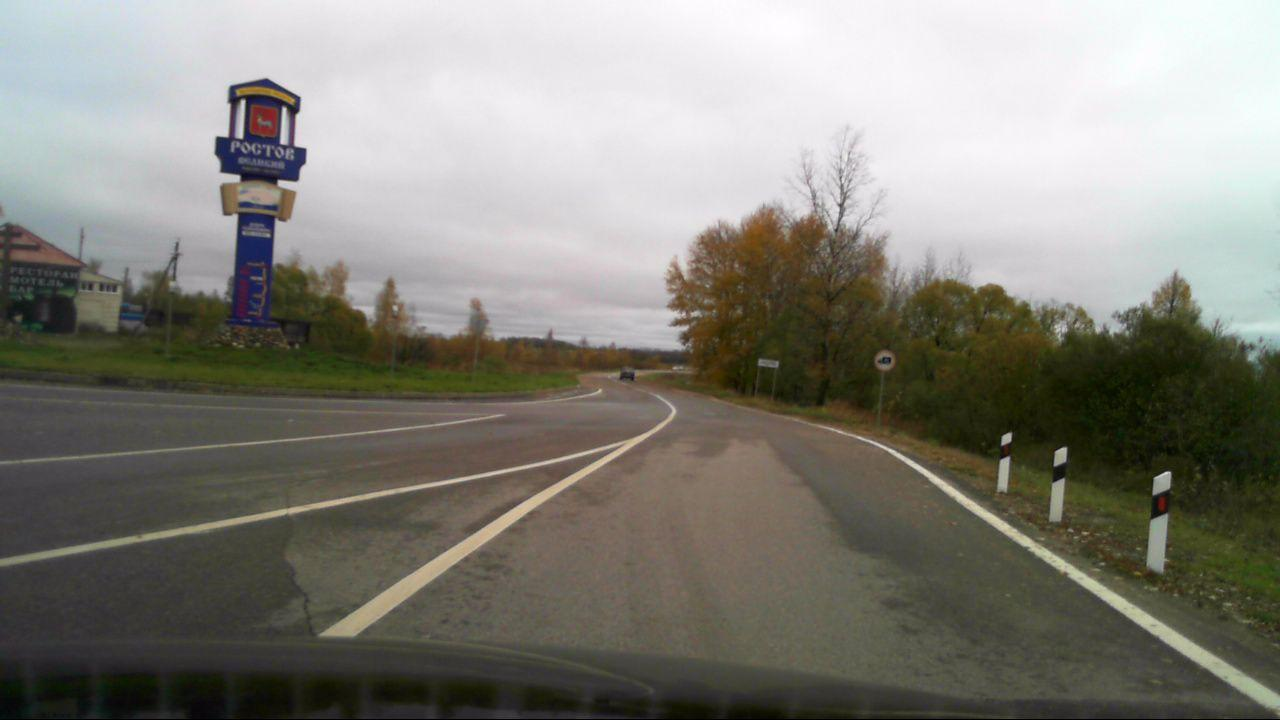3_4: (874, 347, 896, 372)
